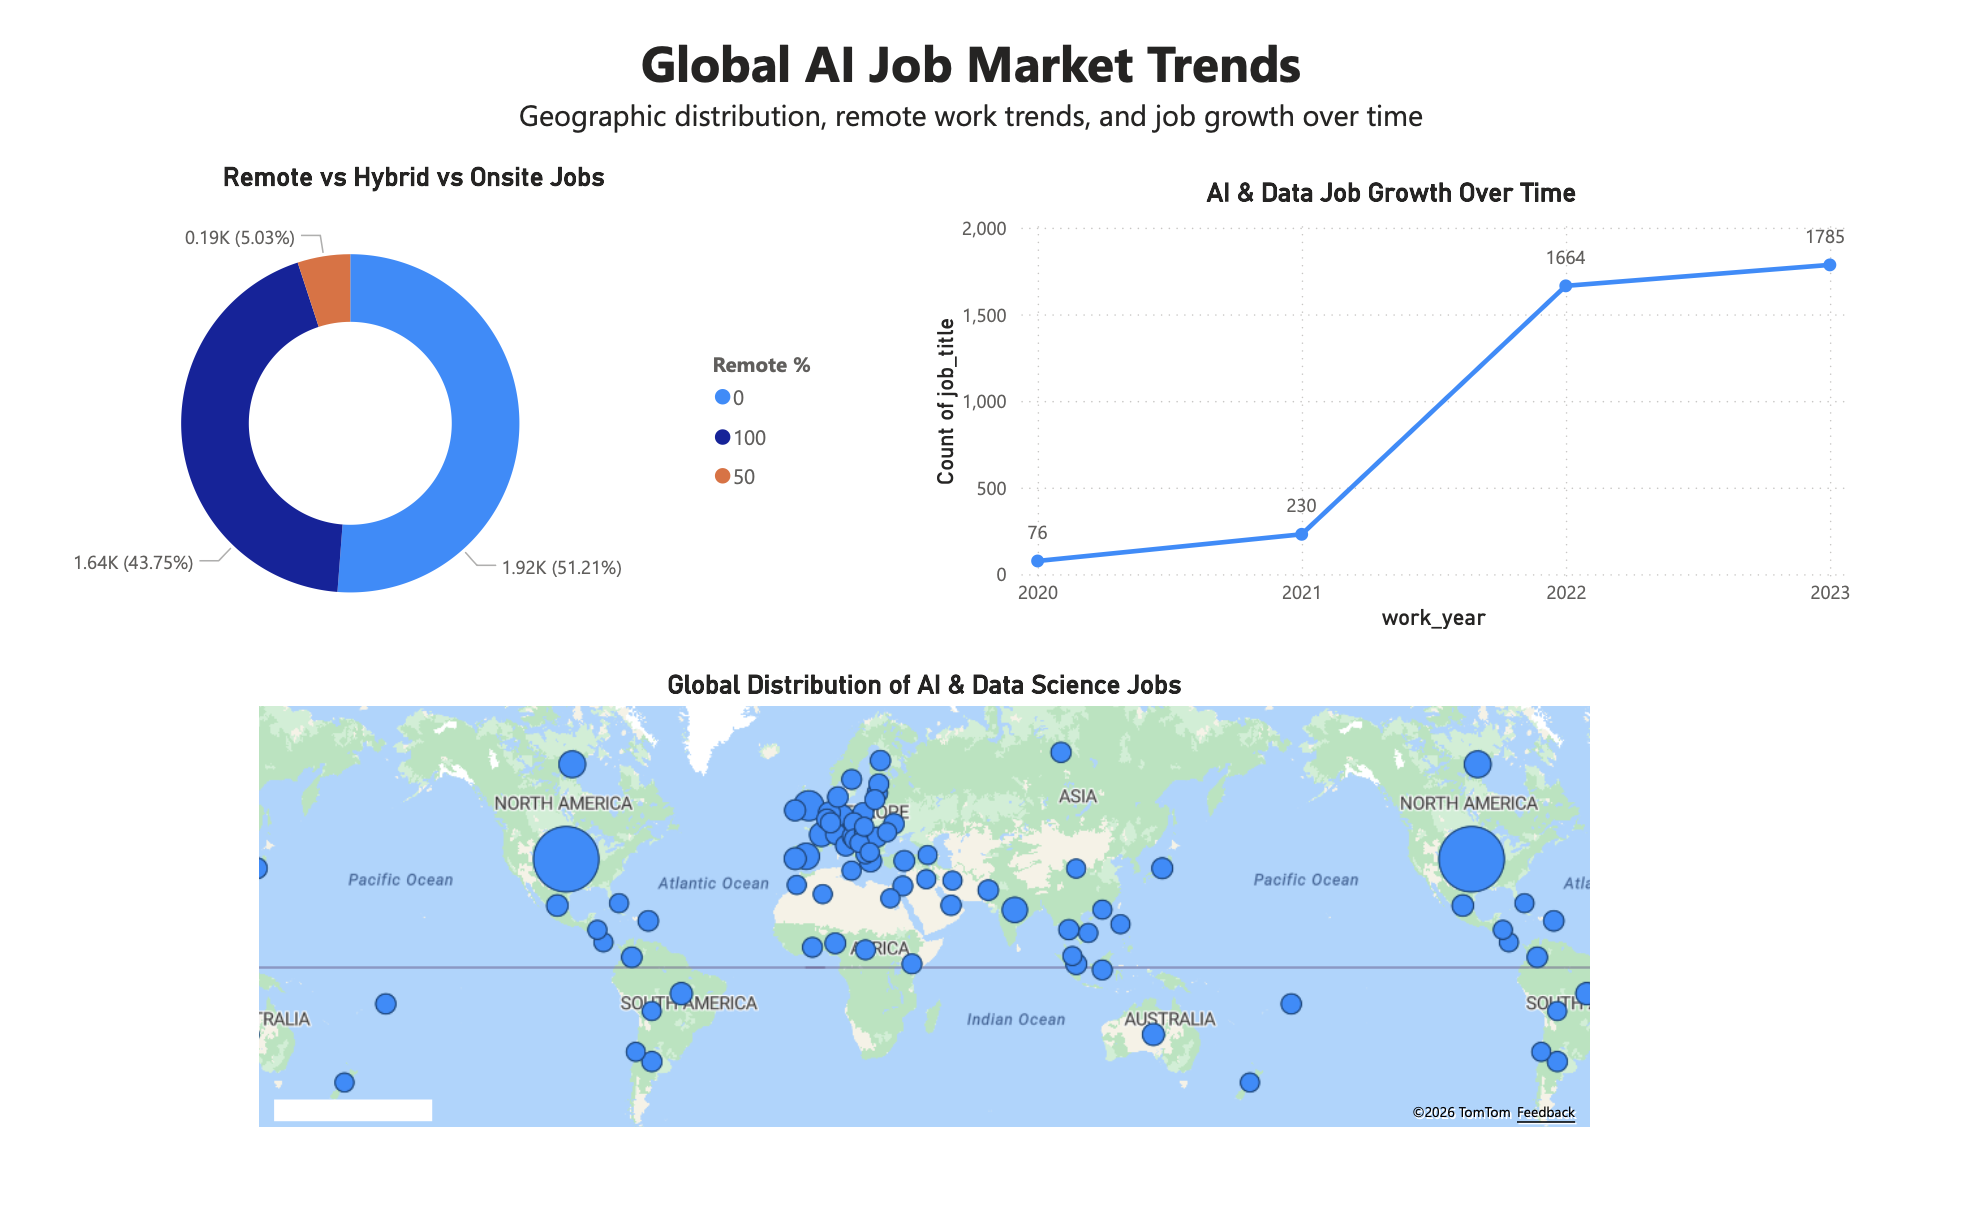

The page's visual inventory and layout, read from the dashboard file:
{"tool":"powerbi","page":{"name":"Page 3","canvas":[1280,720],"ordinal":2},"visuals":[{"type":"lineChart","title":"AI & Data Job Growth Over Time","fields":{"Category":["ds_salaries.work_year"],"Y":["CountNonNull(ds_salaries.job_title)"]},"box":[411.3,104.8,601.6,293.5],"z":0},{"type":"azureMap","title":"Global Distribution of AI & Data Science Jobs","fields":{"Category":["ds_salaries.Company Country"],"Size":["CountNonNull(ds_salaries.job_title)"]},"box":[0,421,869.4,298.4],"z":1000},{"type":"donutChart","title":"Remote vs Hybrid vs Onsite Jobs","fields":{"Category":["ds_salaries.Remote %"],"Y":["CountNonNull(ds_salaries.job_title)"]},"box":[0,104.8,411.3,293.5],"z":2000},{"type":"textbox","box":[0,0,1279,85.5],"z":3000}]}

Visuals, with their boxes on the page's 1280x720 design canvas (x1, y1, x2, y2). These are canvas units, not pixel positions in the 1986x1232 screenshot, which may show the page scaled, cropped or inside an application window:
"AI & Data Job Growth Over Time" lineChart: (x1=411, y1=105, x2=1013, y2=398)
"Global Distribution of AI & Data Science Jobs" azureMap: (x1=0, y1=421, x2=869, y2=719)
"Remote vs Hybrid vs Onsite Jobs" donutChart: (x1=0, y1=105, x2=411, y2=398)
textbox: (x1=0, y1=0, x2=1279, y2=86)
